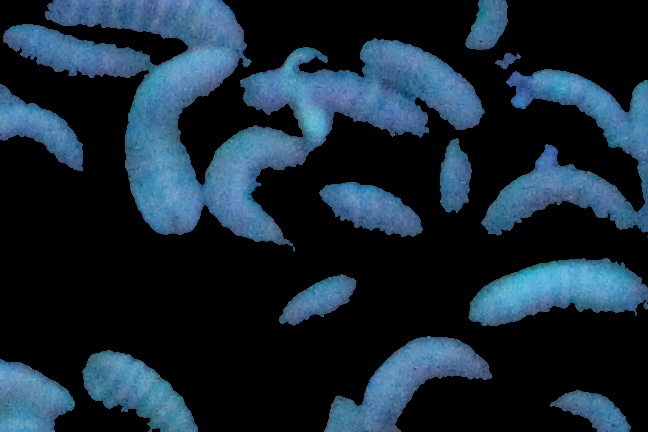larvae: (122, 45, 241, 236), (257, 179, 437, 277), (242, 58, 430, 144), (349, 329, 507, 414), (4, 18, 145, 105), (362, 32, 485, 128), (479, 165, 633, 240), (467, 263, 648, 326), (206, 125, 301, 242), (1, 89, 102, 193), (84, 355, 208, 432), (531, 67, 631, 162), (42, 1, 242, 47), (259, 276, 381, 333), (1, 358, 79, 418), (432, 137, 473, 245), (463, 1, 510, 53)
